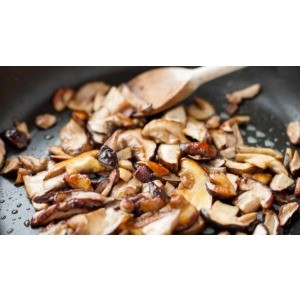mushroom_brain food: (51, 124, 244, 195)
